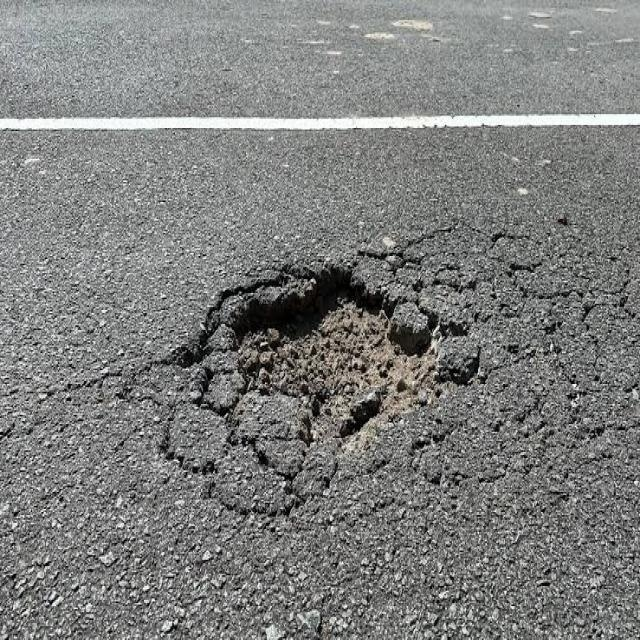pothole: (182, 204, 504, 564)
